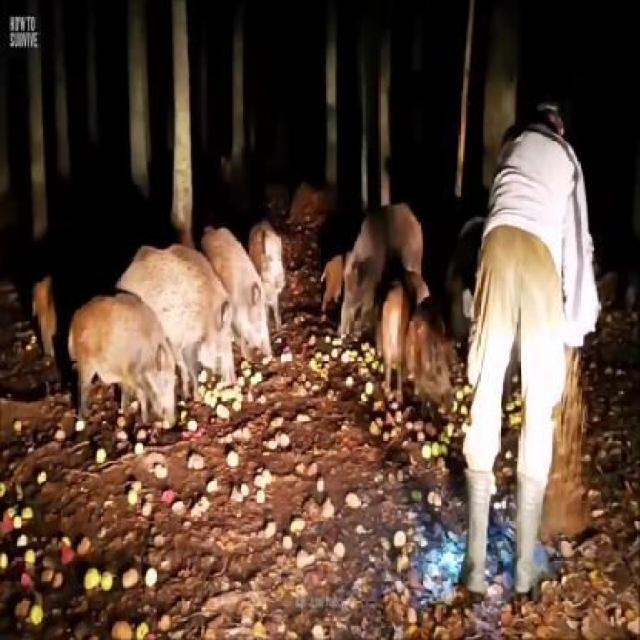WildBoar: (56, 268, 186, 446), (124, 214, 238, 389), (194, 219, 274, 364), (256, 219, 287, 299)
